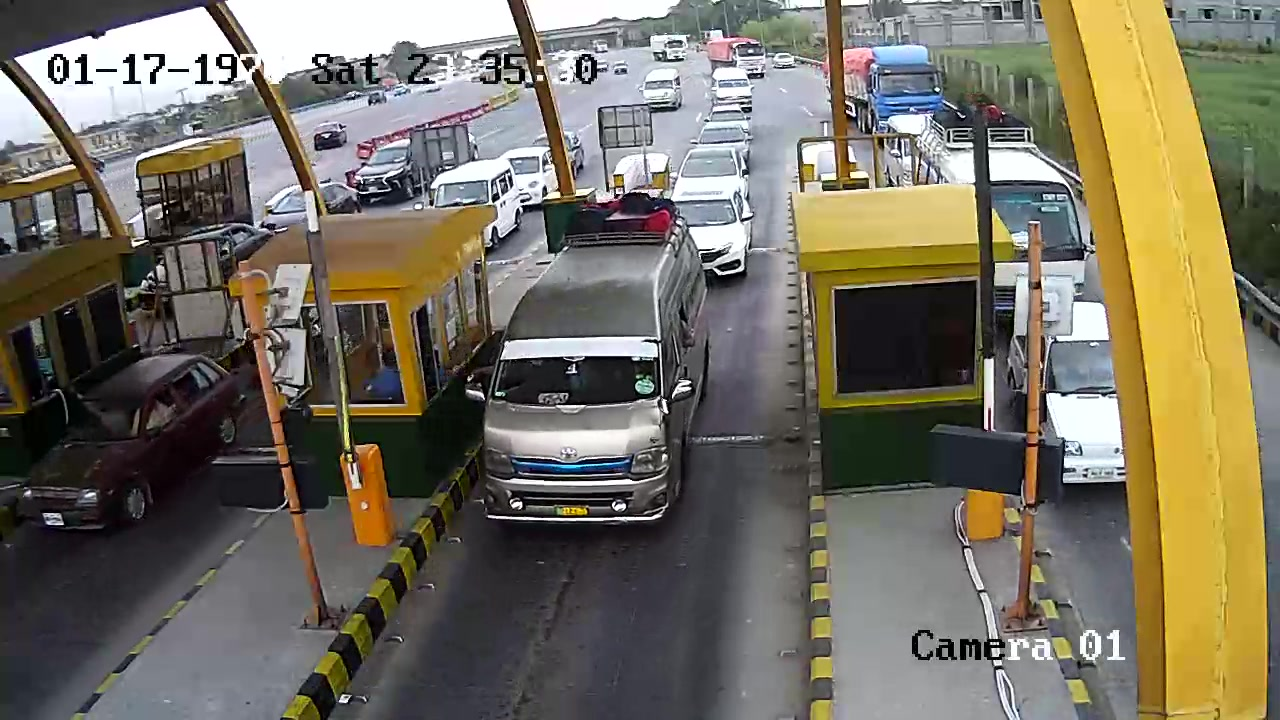F3: (462, 196, 718, 550)
